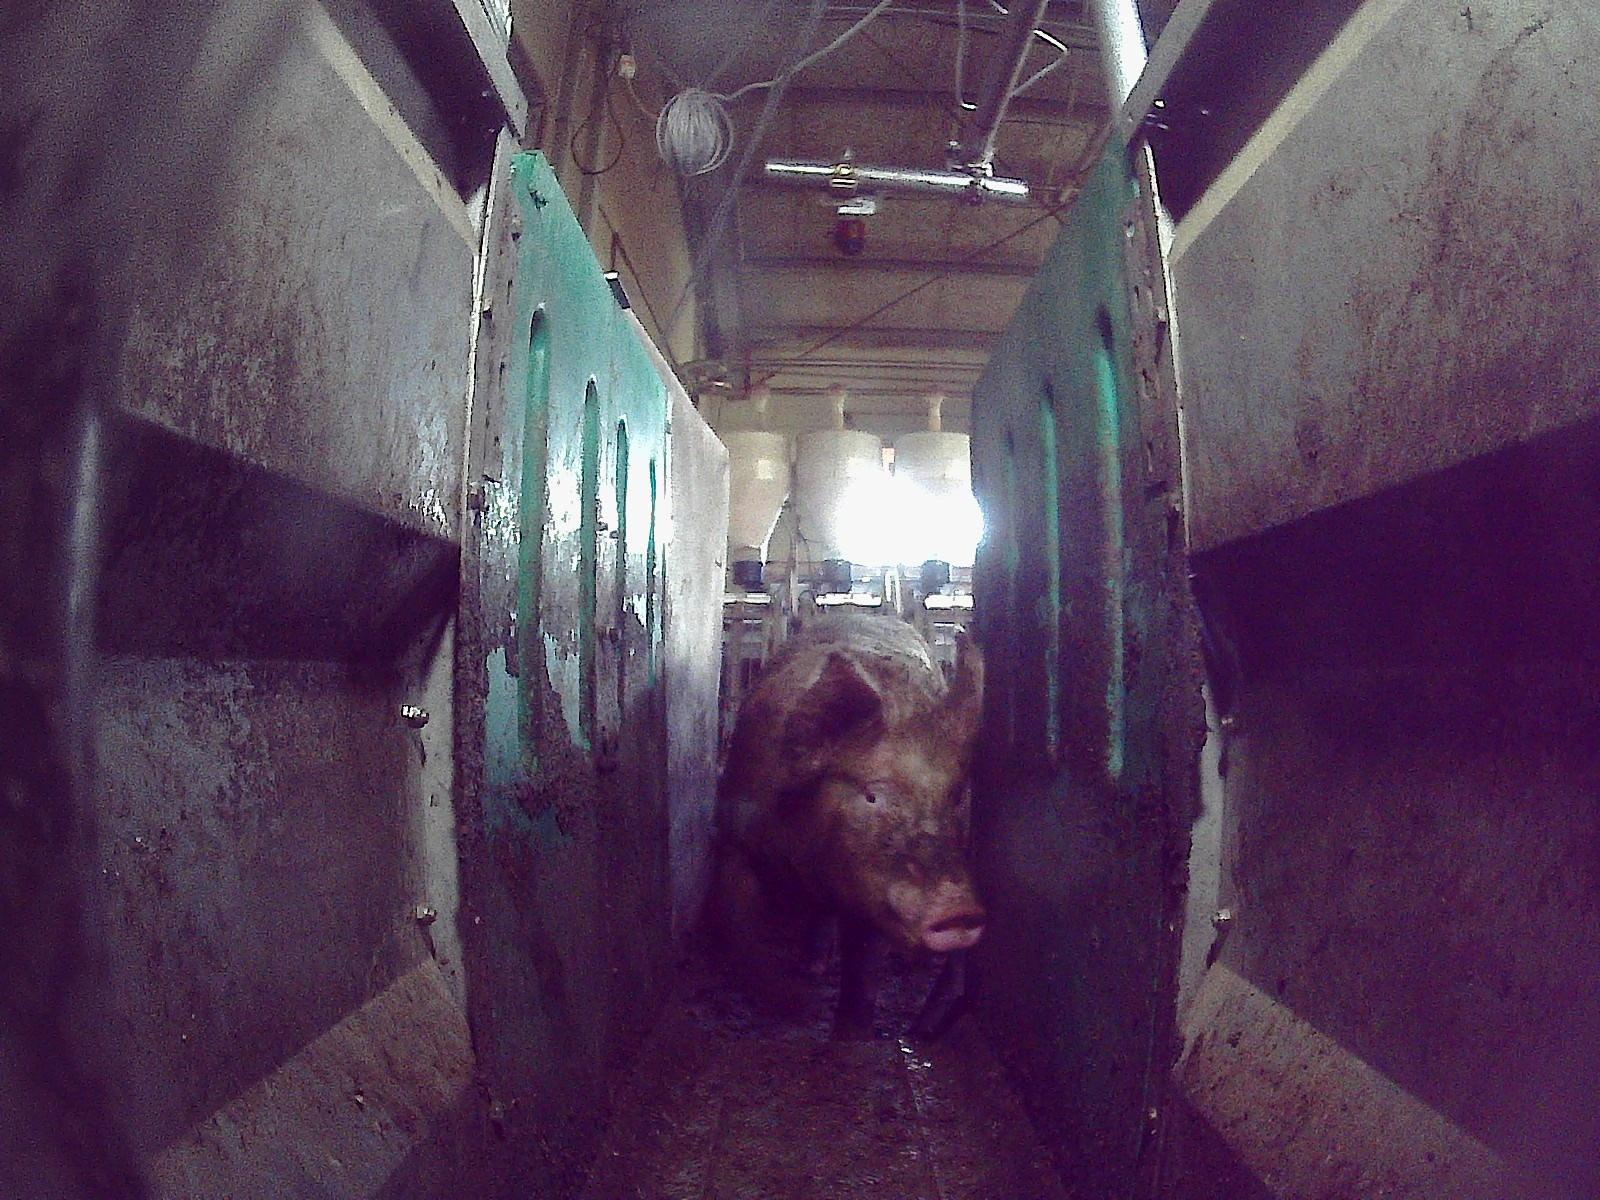Face: (806, 717, 985, 955)
